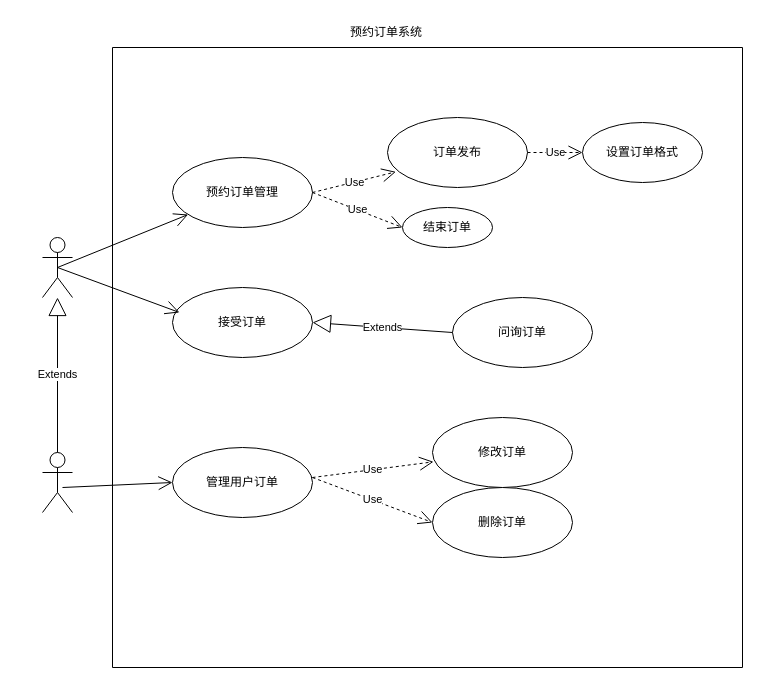
The diagram is 760 pixels wide and 685 high, and some of its shapes have lost their labels. Each missing label, with the box of its shape:
普通用户(学生): (42, 236, 72, 298)
管理员: (42, 452, 72, 512)
